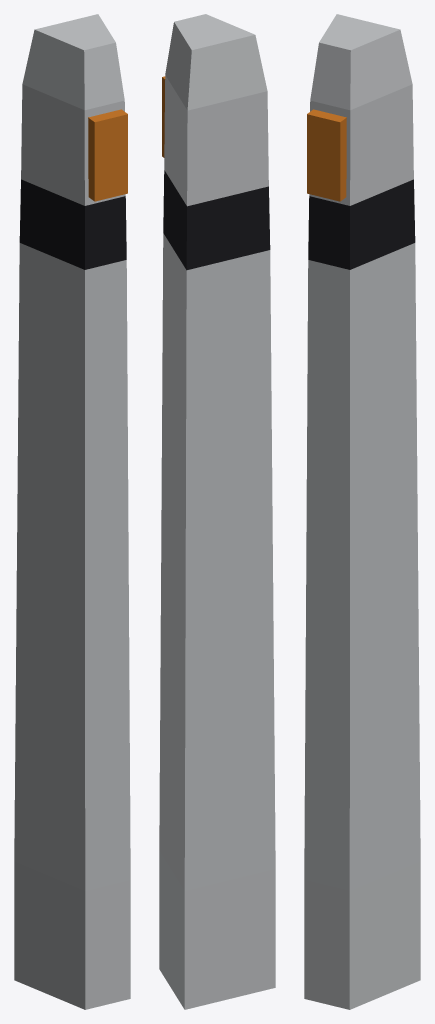
The model's file is road_delineator.glb.
3 renders of one model, left to right at view 1: azimuth 30°, elevation 25°; view 2: azimuth 210°, elevation 25°; view 3: azimuth 330°, elevation 25°, orthographic.
Parts seen in each view (by area): view 1: Pole; view 2: Pole; view 3: Pole.
Part boxes in pixels (<box>): Pole: <box>14,14,130,1009</box>; Pole: <box>159,14,275,1009</box>; Pole: <box>304,14,420,1009</box>.
Bounding box in the file's own units: 0.12 × 1.2 × 0.118.
